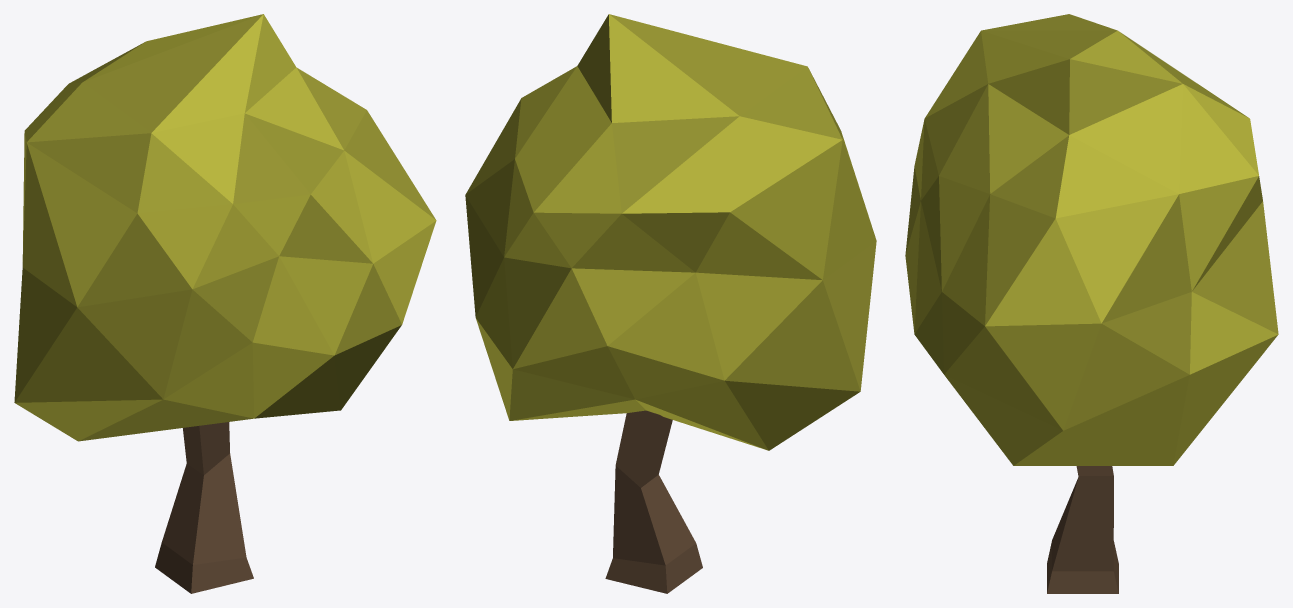
File: Tree_3_Yellow.fbx
3 renders of one model, left to right at view 1: azimuth 30°, elevation 25°; view 2: azimuth 150°, elevation 25°; view 3: azimuth 270°, elevation 25°, orthographic.
Parts seen in each view (by area): view 1: Tree_3_Yellow_Part_2, Tree_3_Yellow_Part_3, Tree_3_Yellow_Part_1; view 2: Tree_3_Yellow_Part_2, Tree_3_Yellow_Part_3, Tree_3_Yellow_Part_1; view 3: Tree_3_Yellow_Part_2, Tree_3_Yellow_Part_3, Tree_3_Yellow_Part_1.
Part boxes in pixels (bbox=[...]): Tree_3_Yellow_Part_2: bbox=[14, 14, 436, 441]; Tree_3_Yellow_Part_3: bbox=[14, 14, 435, 441]; Tree_3_Yellow_Part_1: bbox=[155, 422, 253, 593]; Tree_3_Yellow_Part_2: bbox=[465, 14, 876, 450]; Tree_3_Yellow_Part_3: bbox=[465, 14, 876, 420]; Tree_3_Yellow_Part_1: bbox=[605, 410, 702, 593]; Tree_3_Yellow_Part_2: bbox=[905, 30, 1278, 465]; Tree_3_Yellow_Part_3: bbox=[905, 14, 1278, 465]; Tree_3_Yellow_Part_1: bbox=[1047, 466, 1118, 593].
Bounding box in the file's own units: 433 × 596 × 370.
